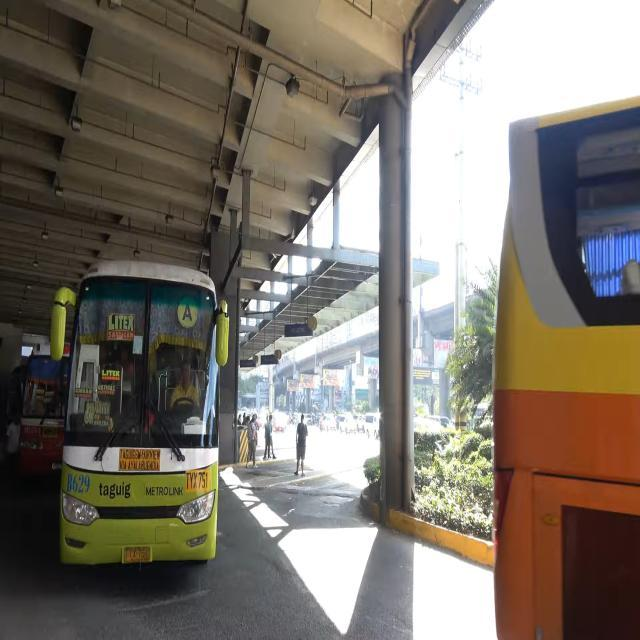bus: (492, 89, 640, 640), (48, 255, 230, 569), (15, 337, 73, 482)
